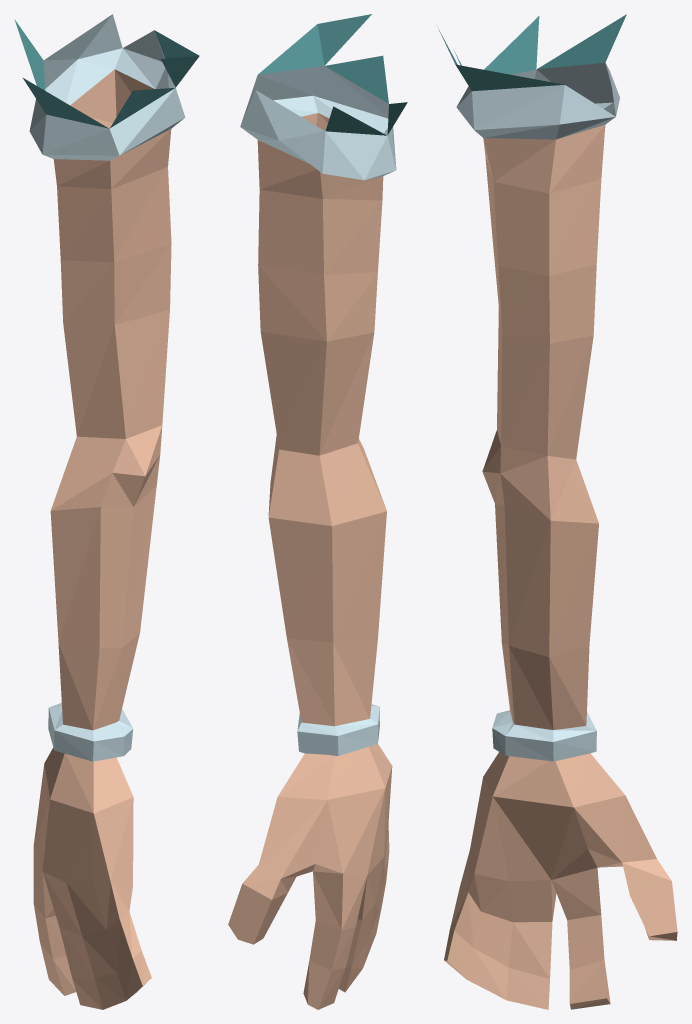
File: ArmL.obj
3 renders of one model, left to right at view 1: azimuth 30°, elevation 25°; view 2: azimuth 150°, elevation 25°; view 3: azimuth 270°, elevation 25°, orthographic. The views are drawn at different scales.
Bounding box in the file's own units: 0.1419 × 0.8566 × 0.1878.
Materials: 1 (1 with a texture image).
